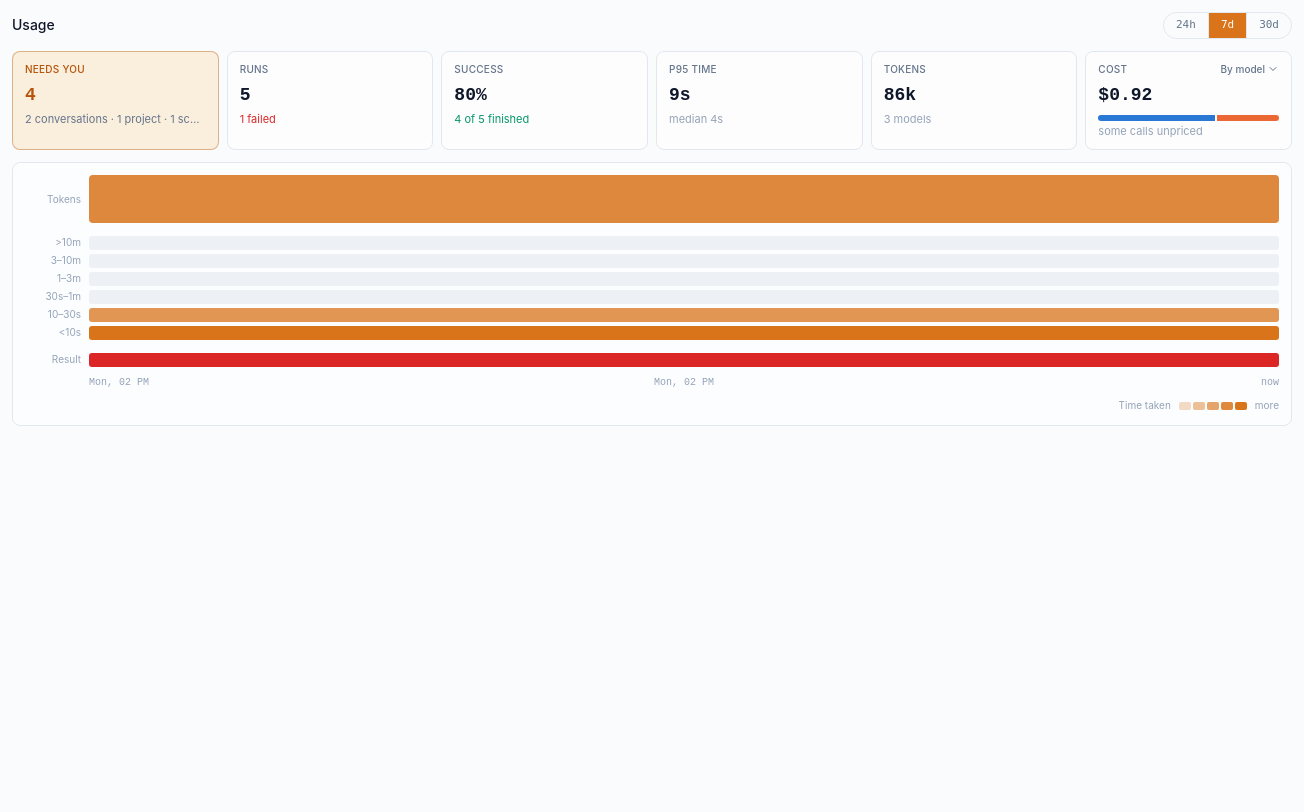
Test: the cost tile opens the cost by model › closes the row, and opens the by-model table in place, under the tiles, with what is not counted
Click the button with test id "usage-cost": (1189, 100) left=1085, top=50, right=1292, bottom=150
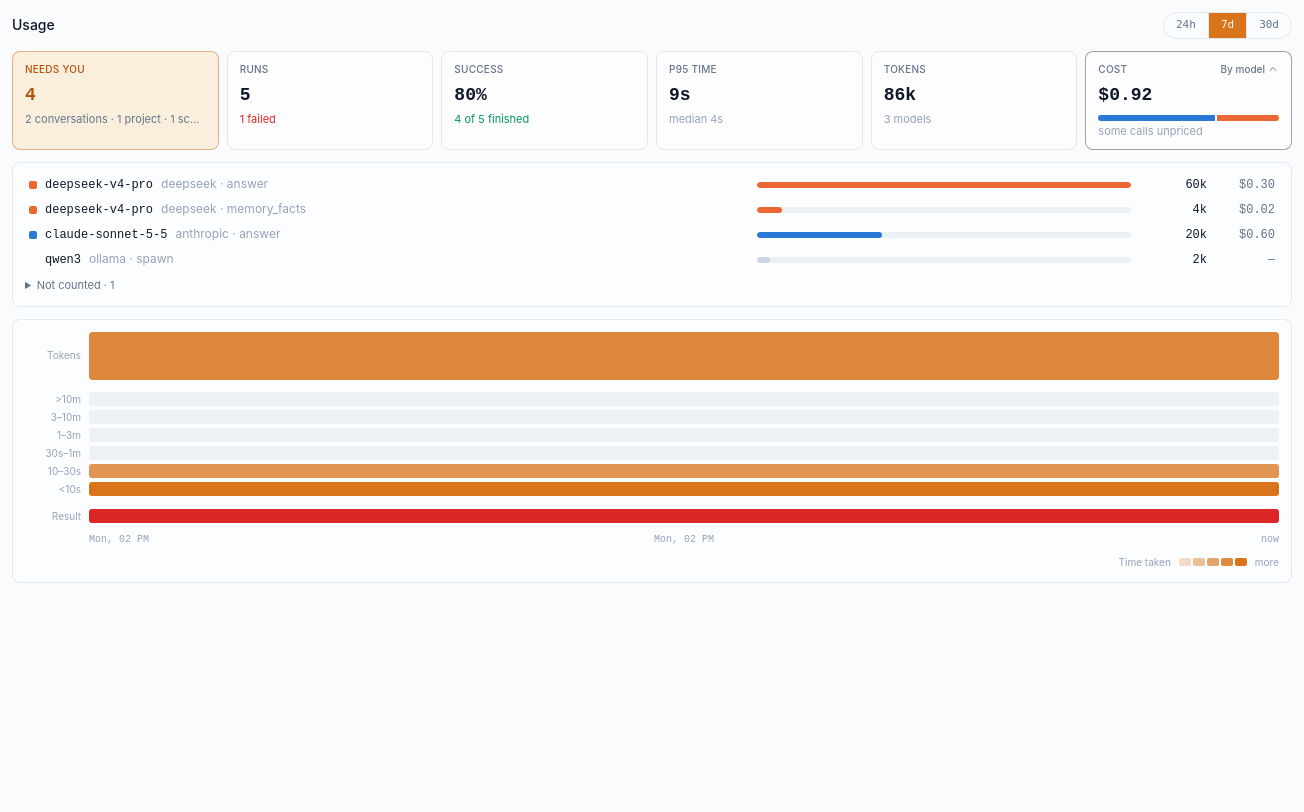
Check: the number of buttons with test id "usage-row" is 4, box left=25, top=175, right=1279, bottom=194; left=25, top=200, right=1279, bottom=219; left=25, top=225, right=1279, bottom=244; left=25, top=250, right=1279, bottom=269
Click the button with test id "usage-cost": (1189, 100) left=1085, top=50, right=1292, bottom=150
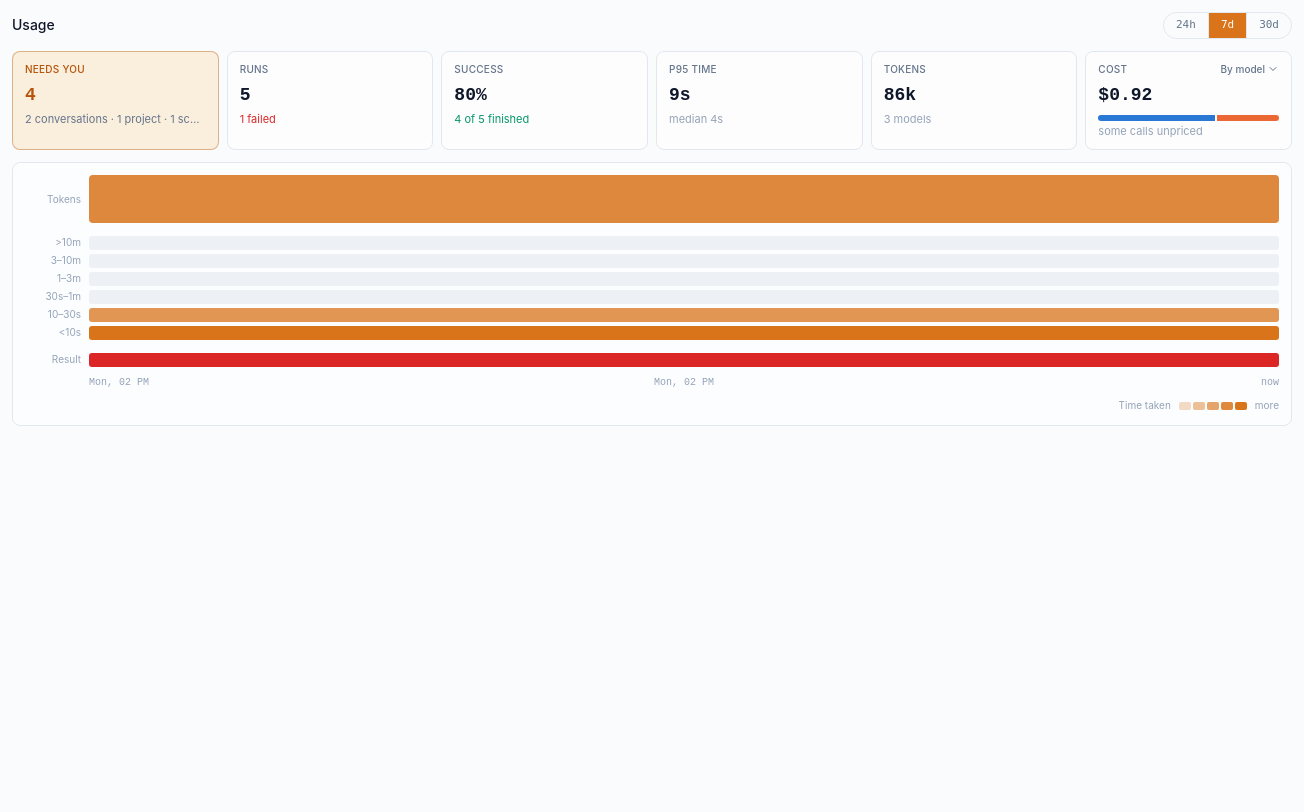
Check: the button with test id "usage-row" is gone
